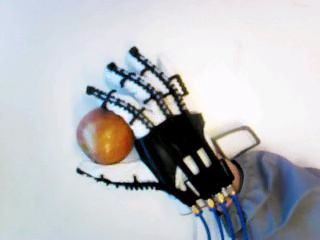apple: (75, 104, 135, 165)
hand: (72, 47, 234, 215)
